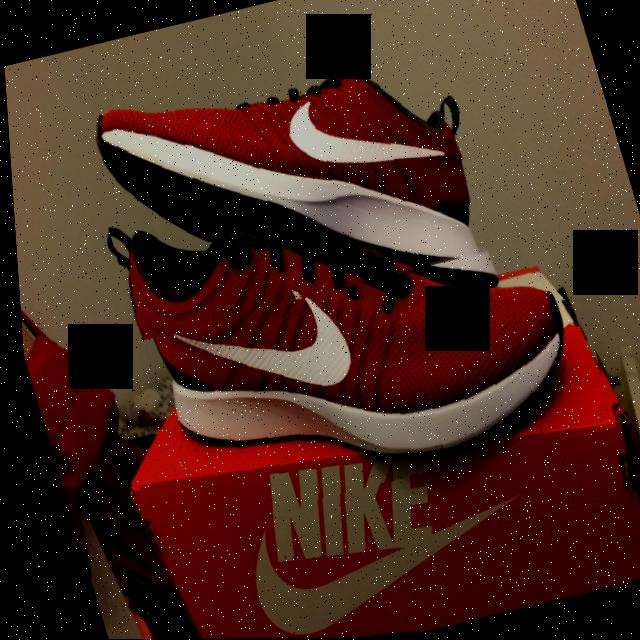shoe: (69, 102, 616, 534), (65, 7, 556, 341)
